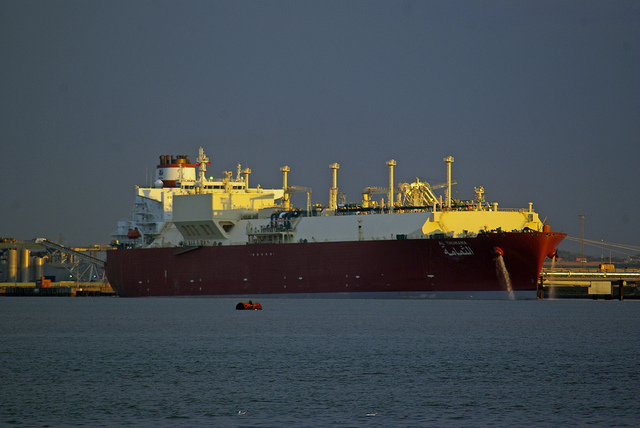LNG_ship: (107, 145, 561, 296)
